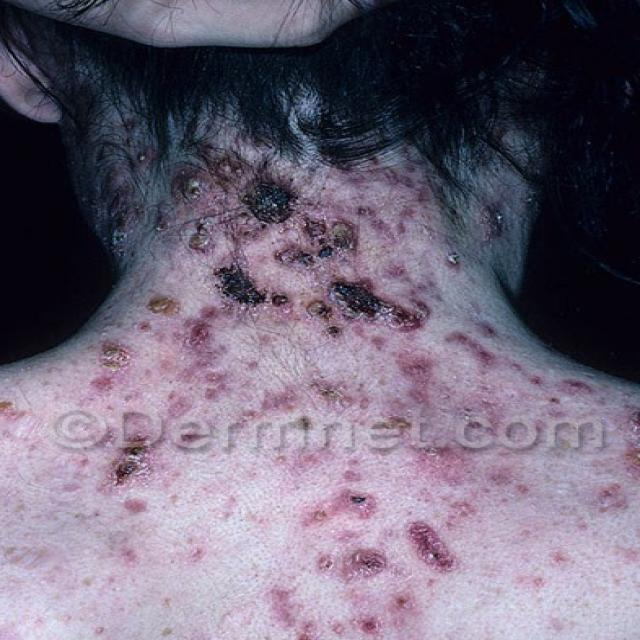Acne: (243, 457, 473, 625), (170, 338, 528, 415), (189, 133, 339, 265), (322, 259, 437, 338), (91, 405, 169, 515), (80, 143, 173, 229), (207, 251, 291, 319), (614, 377, 640, 493), (589, 470, 640, 528), (0, 371, 21, 423)
